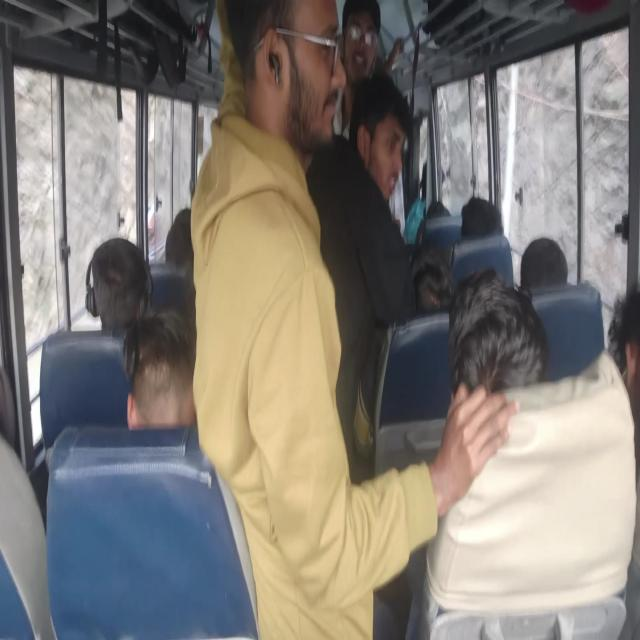person: (246, 0, 334, 154), (455, 272, 546, 388), (124, 306, 198, 429), (347, 73, 412, 210), (87, 238, 150, 330), (607, 285, 640, 405), (340, 0, 383, 85), (519, 237, 569, 291), (412, 260, 452, 314), (164, 208, 194, 271), (460, 196, 504, 236), (498, 9, 500, 12)
